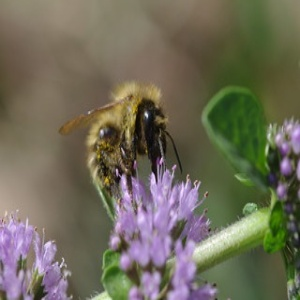bee: (71, 83, 183, 208)
